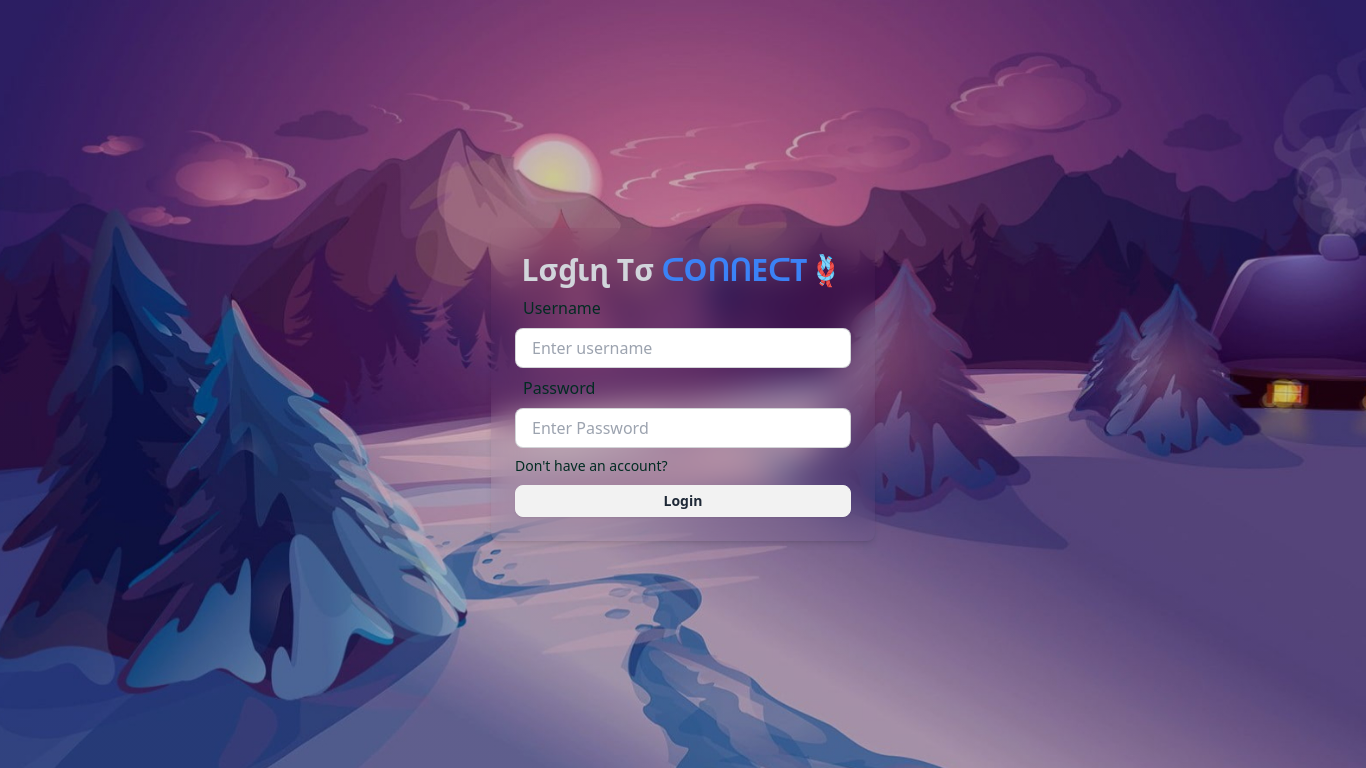
Test: login › opens the inbox after a valid login
The image size is (1366, 768).
Step 1. Type "alice" into the field labelled "Username" → (683, 348), box [515,328,851,368]
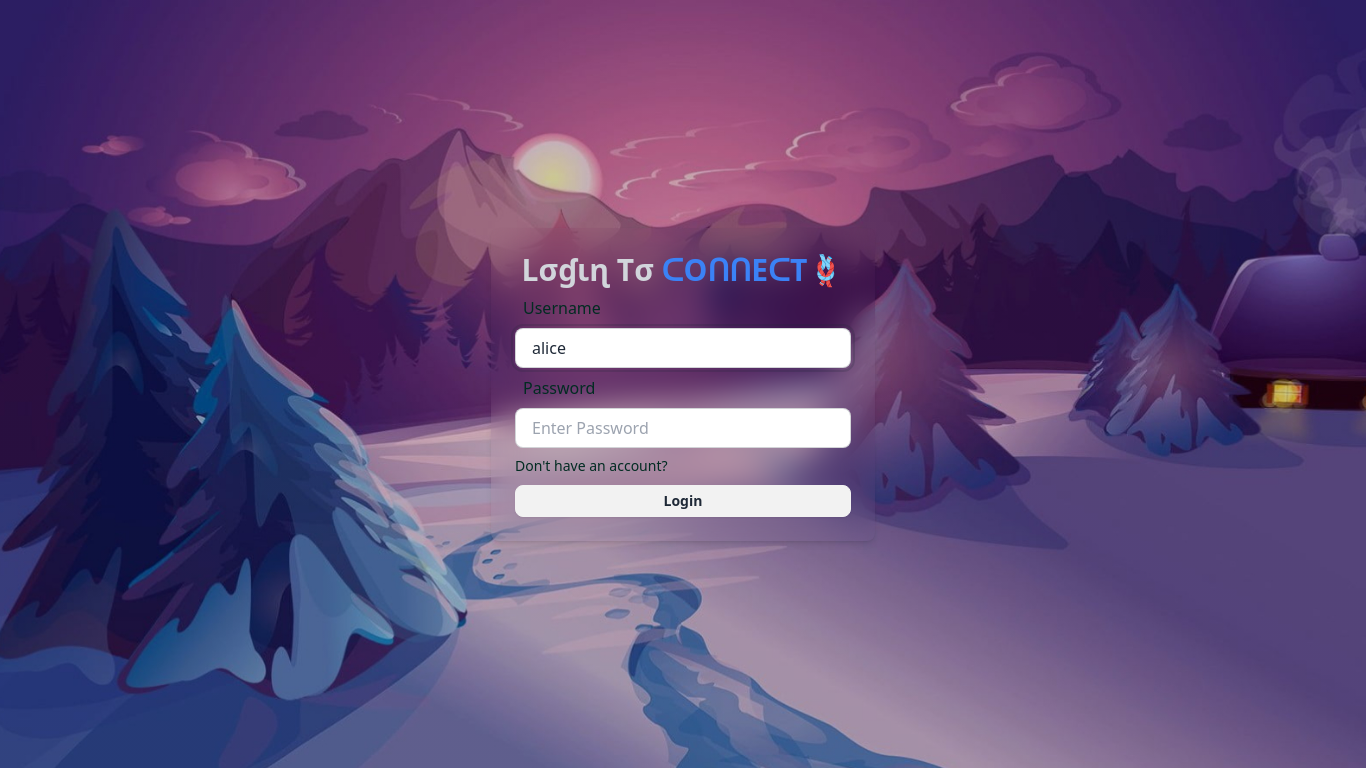
Step 2. Type "password12" into the password field labelled "Password" → (683, 428), box [515,408,851,448]
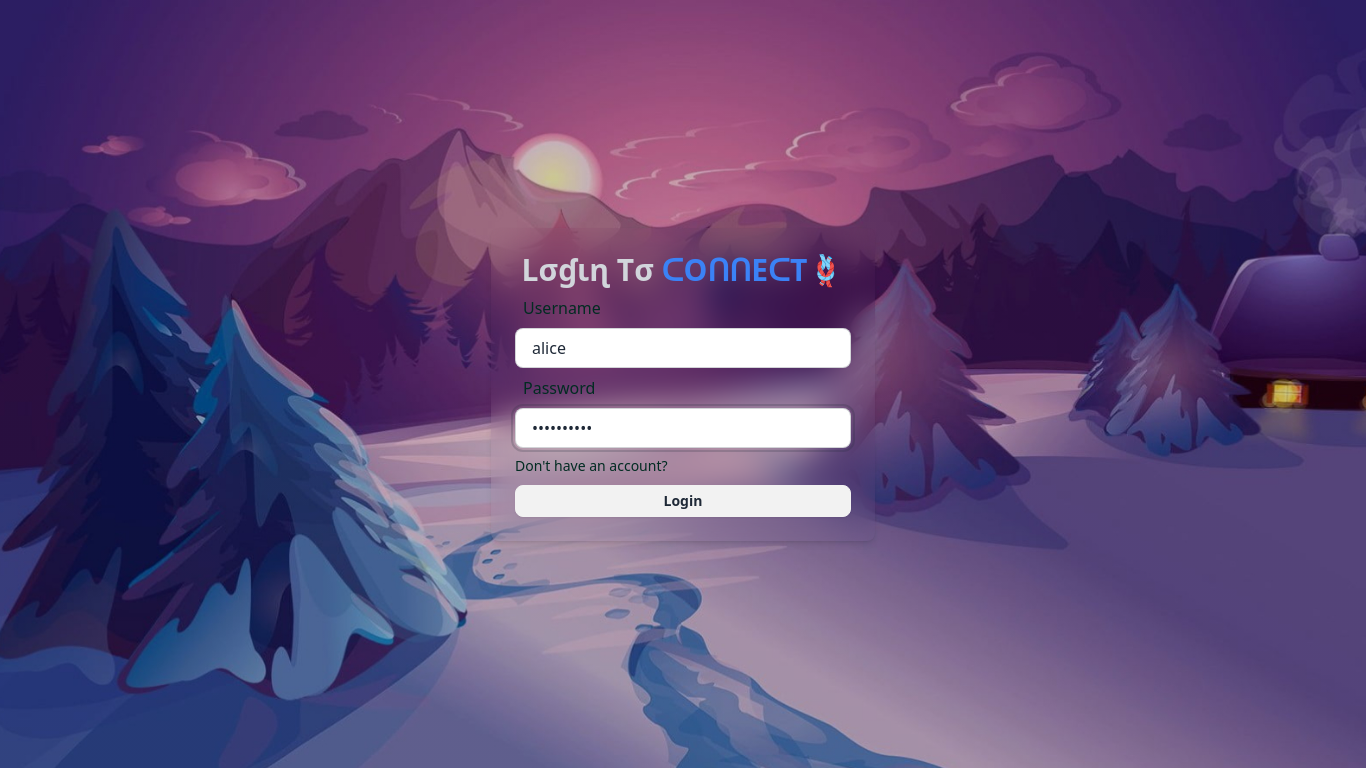
Step 3. Click the button "Login" → (683, 500), box [515,484,851,516]
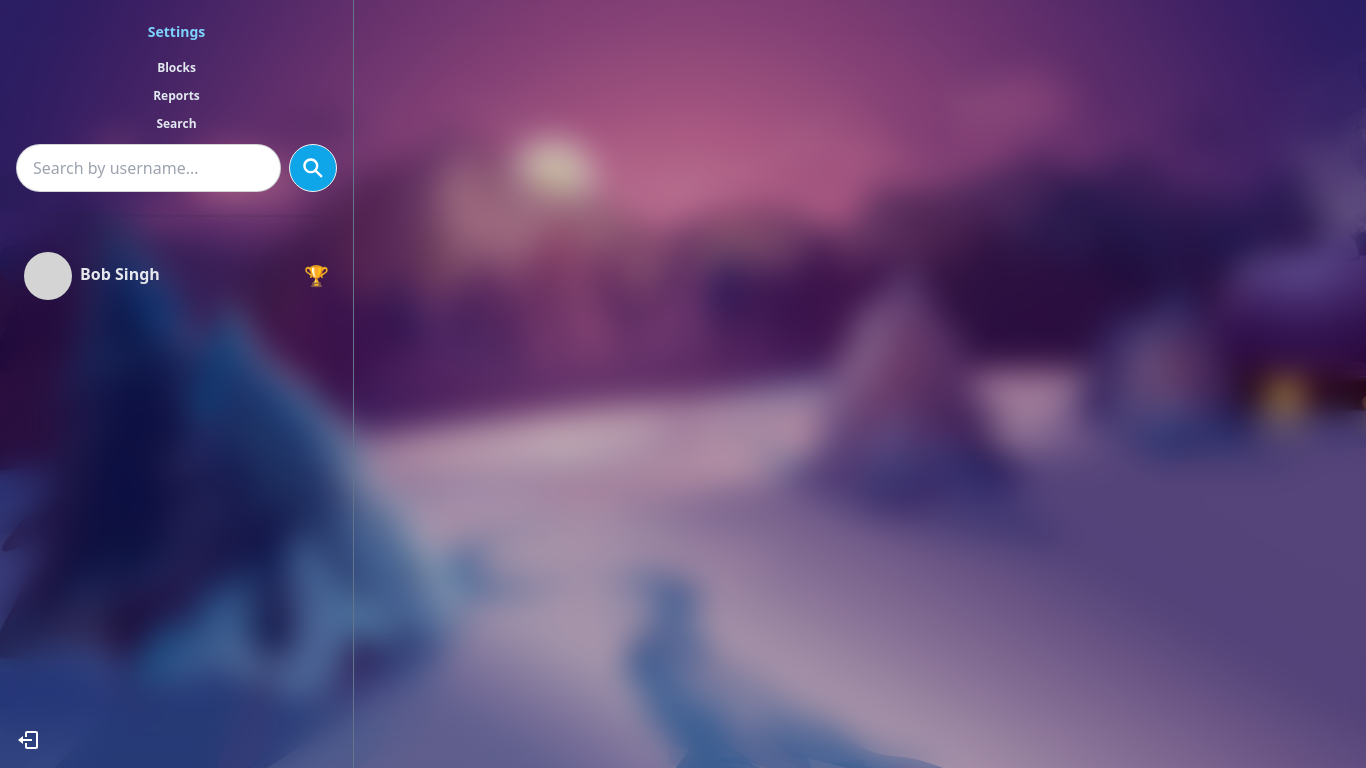
Now the link "Settings" is shown, box [16,16,337,48]
Now the text "Bob Singh" is shown, box [80,262,160,290]
